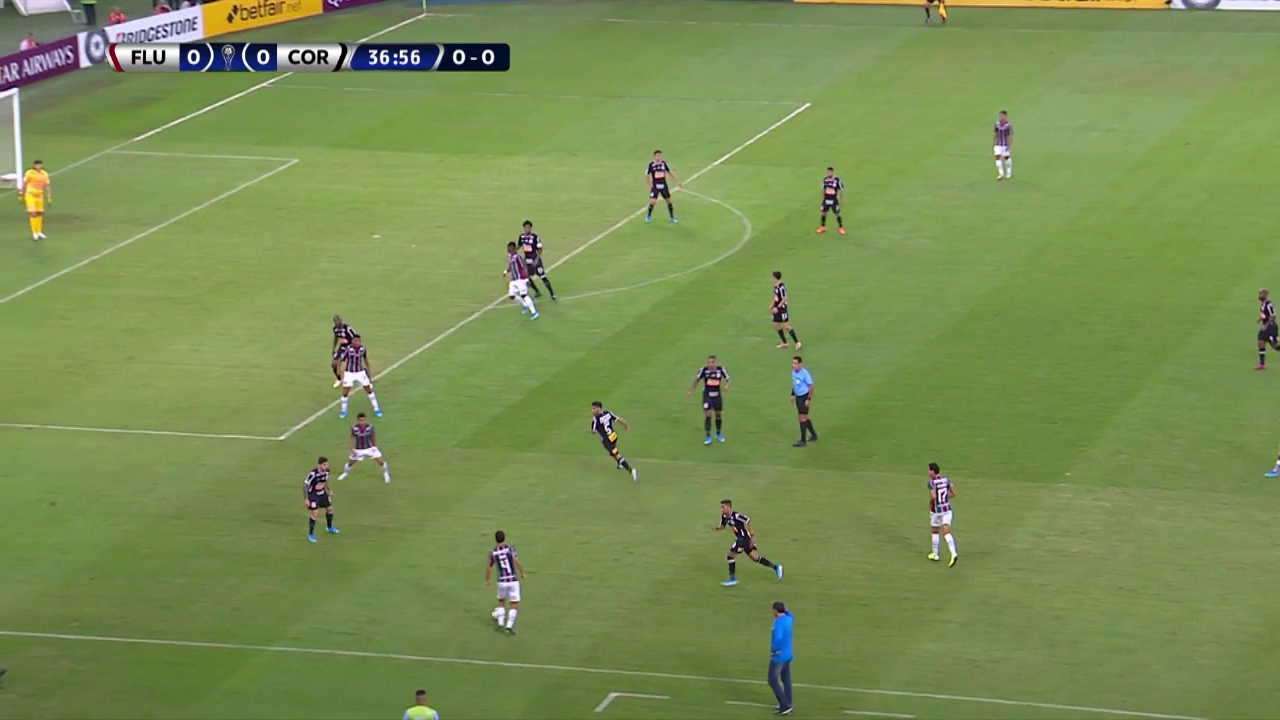ball: (491, 604, 499, 622)
player: (710, 498, 787, 589), (481, 528, 530, 636), (586, 400, 643, 484), (686, 352, 734, 448), (922, 461, 964, 569), (337, 411, 393, 485), (336, 333, 384, 419), (298, 454, 343, 543), (15, 159, 56, 243), (517, 220, 558, 304), (639, 148, 682, 226), (765, 269, 804, 351), (501, 240, 540, 321), (813, 165, 849, 237), (1250, 287, 1280, 373), (329, 313, 358, 389), (989, 109, 1017, 181)
referee: (786, 355, 822, 449), (921, 0, 949, 27)
